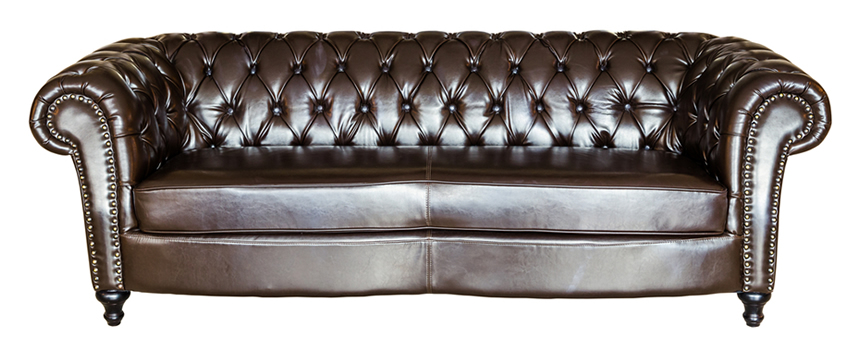chairs: (29, 29, 833, 327)
